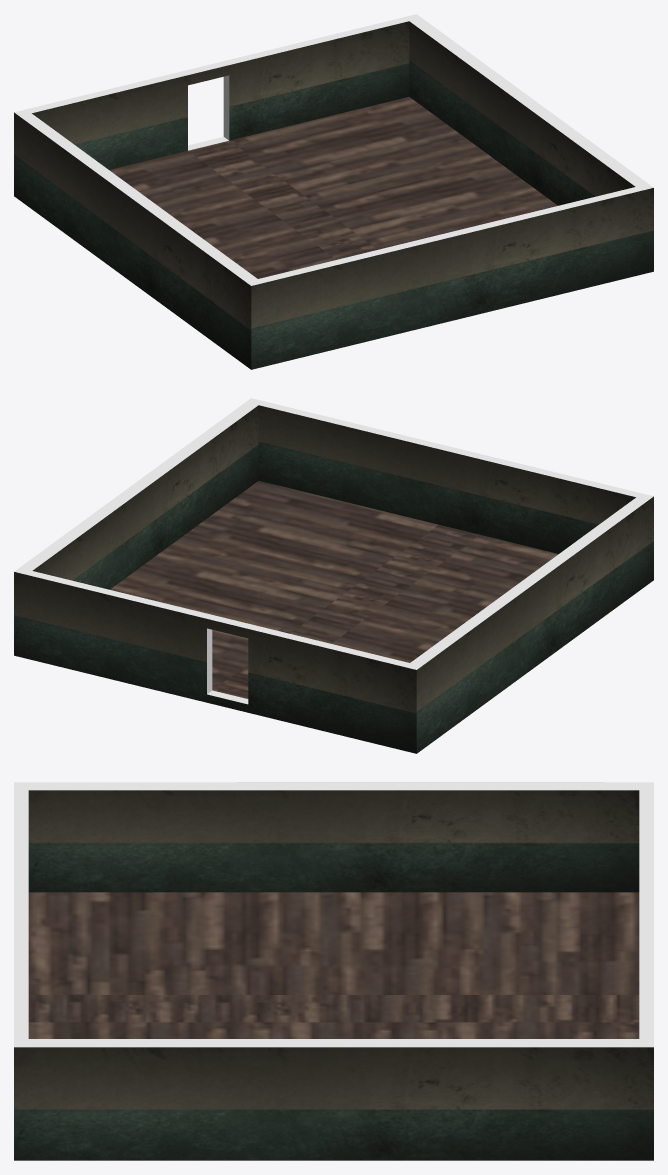
The model's file is quarto1.glb.
The picture shows the model from 3 angles, top to bottom: view 1: azimuth 30°, elevation 25°; view 2: azimuth 150°, elevation 25°; view 3: azimuth 270°, elevation 25°; orthographic projection. The views are drawn at different scales.
Visible parts, largest first — view 1: Classroom; view 2: Classroom; view 3: Classroom.
Boxes of the visible parts, <box> form: Classroom: <box>14,14,653,369</box>; Classroom: <box>14,398,653,753</box>; Classroom: <box>14,782,653,1160</box>.
Size of the model in its own units: 19.96 by 3.97 by 20.36.
Materials: 1 (1 with a texture image).
